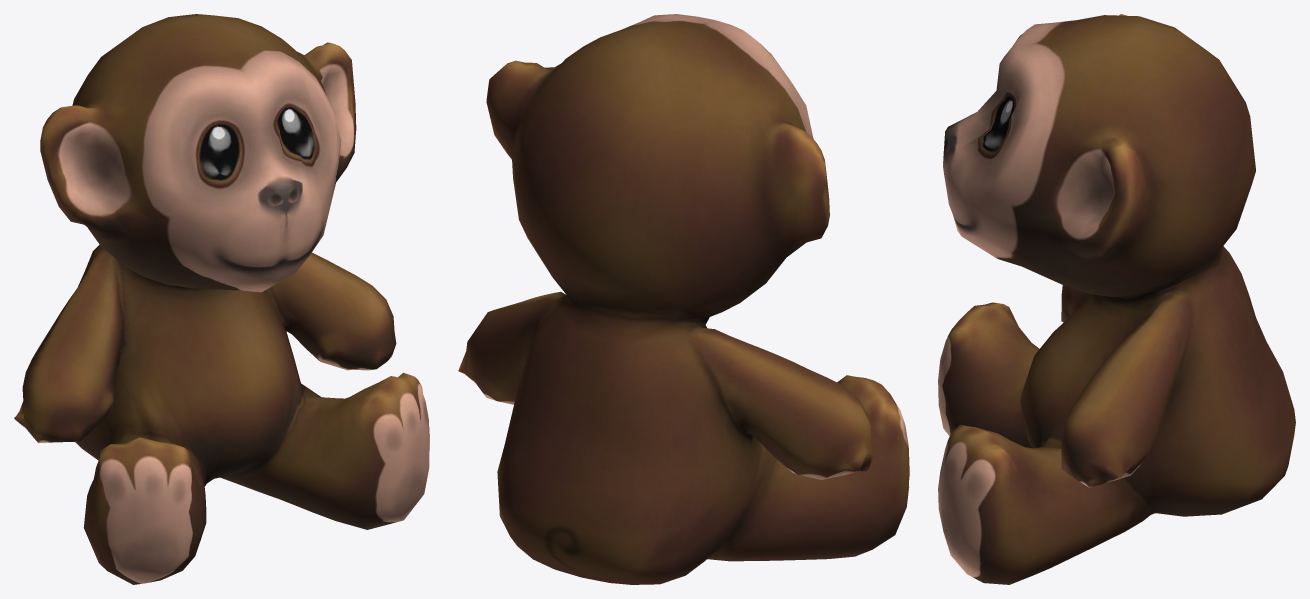
The model's file is Monkey.glb.
3 renders of one model, left to right at view 1: azimuth 30°, elevation 25°; view 2: azimuth 150°, elevation 25°; view 3: azimuth 270°, elevation 25°, orthographic. The views are drawn at different scales.
Visible parts, largest first — view 1: monkey; view 2: monkey; view 3: monkey.
Boxes of the visible parts, bbox=[...] form: monkey: bbox=[14, 14, 429, 584]; monkey: bbox=[458, 14, 909, 584]; monkey: bbox=[938, 14, 1295, 584].
Size of the model in its own units: 1.51 by 1.89 by 1.24.
Materials: 1 (1 with a texture image).
